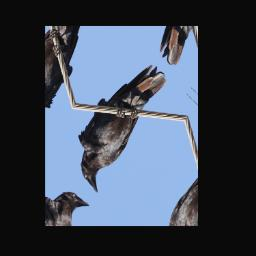Crow: (62, 44, 170, 196)
